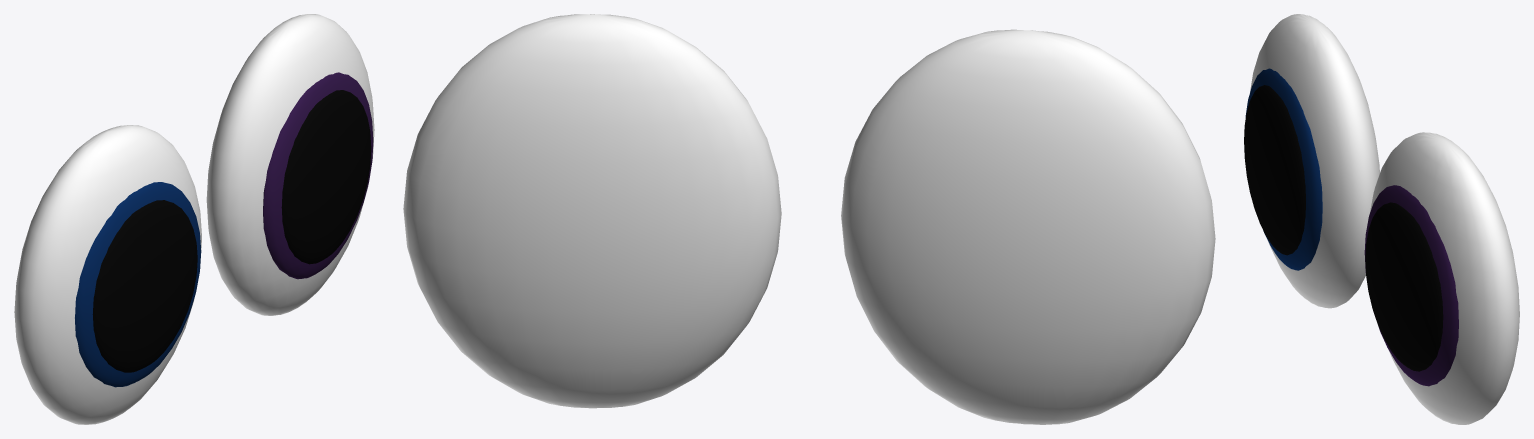
The picture shows the model from 3 angles, left to right: view 1: azimuth 30°, elevation 25°; view 2: azimuth 150°, elevation 25°; view 3: azimuth 270°, elevation 25°; orthographic projection. The views are drawn at different scales.
Parts seen in each view (by area): view 1: Sphere.001, Sphere_1.001, Sphere_2.002, Sphere_2.001; view 2: Sphere.001; view 3: Sphere.001, Sphere_1.001, Sphere_2.001, Sphere_2.002.
Boxes of the visible parts, left/top/right/bottom form: Sphere.001: left=14, top=14, right=374, bottom=424; Sphere_1.001: left=92, top=90, right=371, bottom=372; Sphere_2.002: left=75, top=182, right=201, bottom=387; Sphere_2.001: left=263, top=72, right=373, bottom=279; Sphere.001: left=403, top=14, right=1215, bottom=424; Sphere.001: left=1250, top=14, right=1519, bottom=424; Sphere_1.001: left=1244, top=85, right=1443, bottom=371; Sphere_2.001: left=1364, top=185, right=1458, bottom=386; Sphere_2.002: left=1245, top=68, right=1322, bottom=270.
Bounding box in the file's own units: 65.67 × 34.73 × 38.37.
